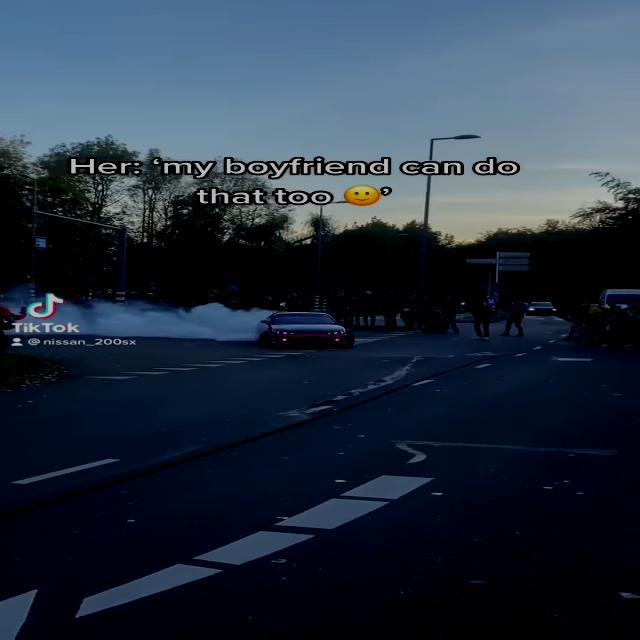car: (262, 311, 355, 350)
